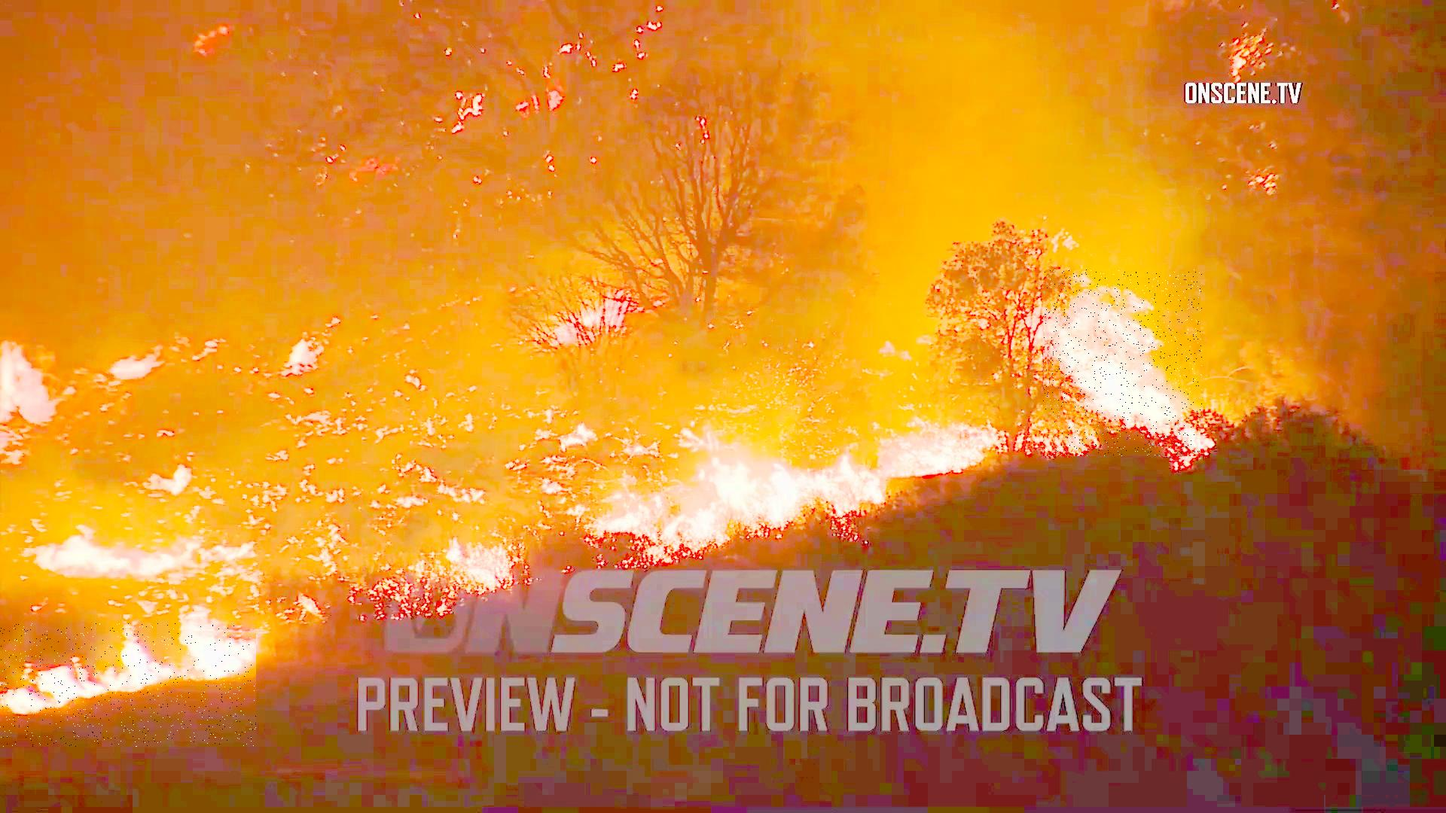fire: (0, 623, 256, 747), (1044, 270, 1202, 456)
